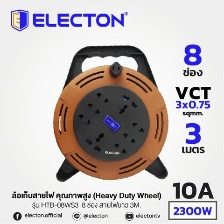three_eye_plug: (49, 58, 171, 182)
